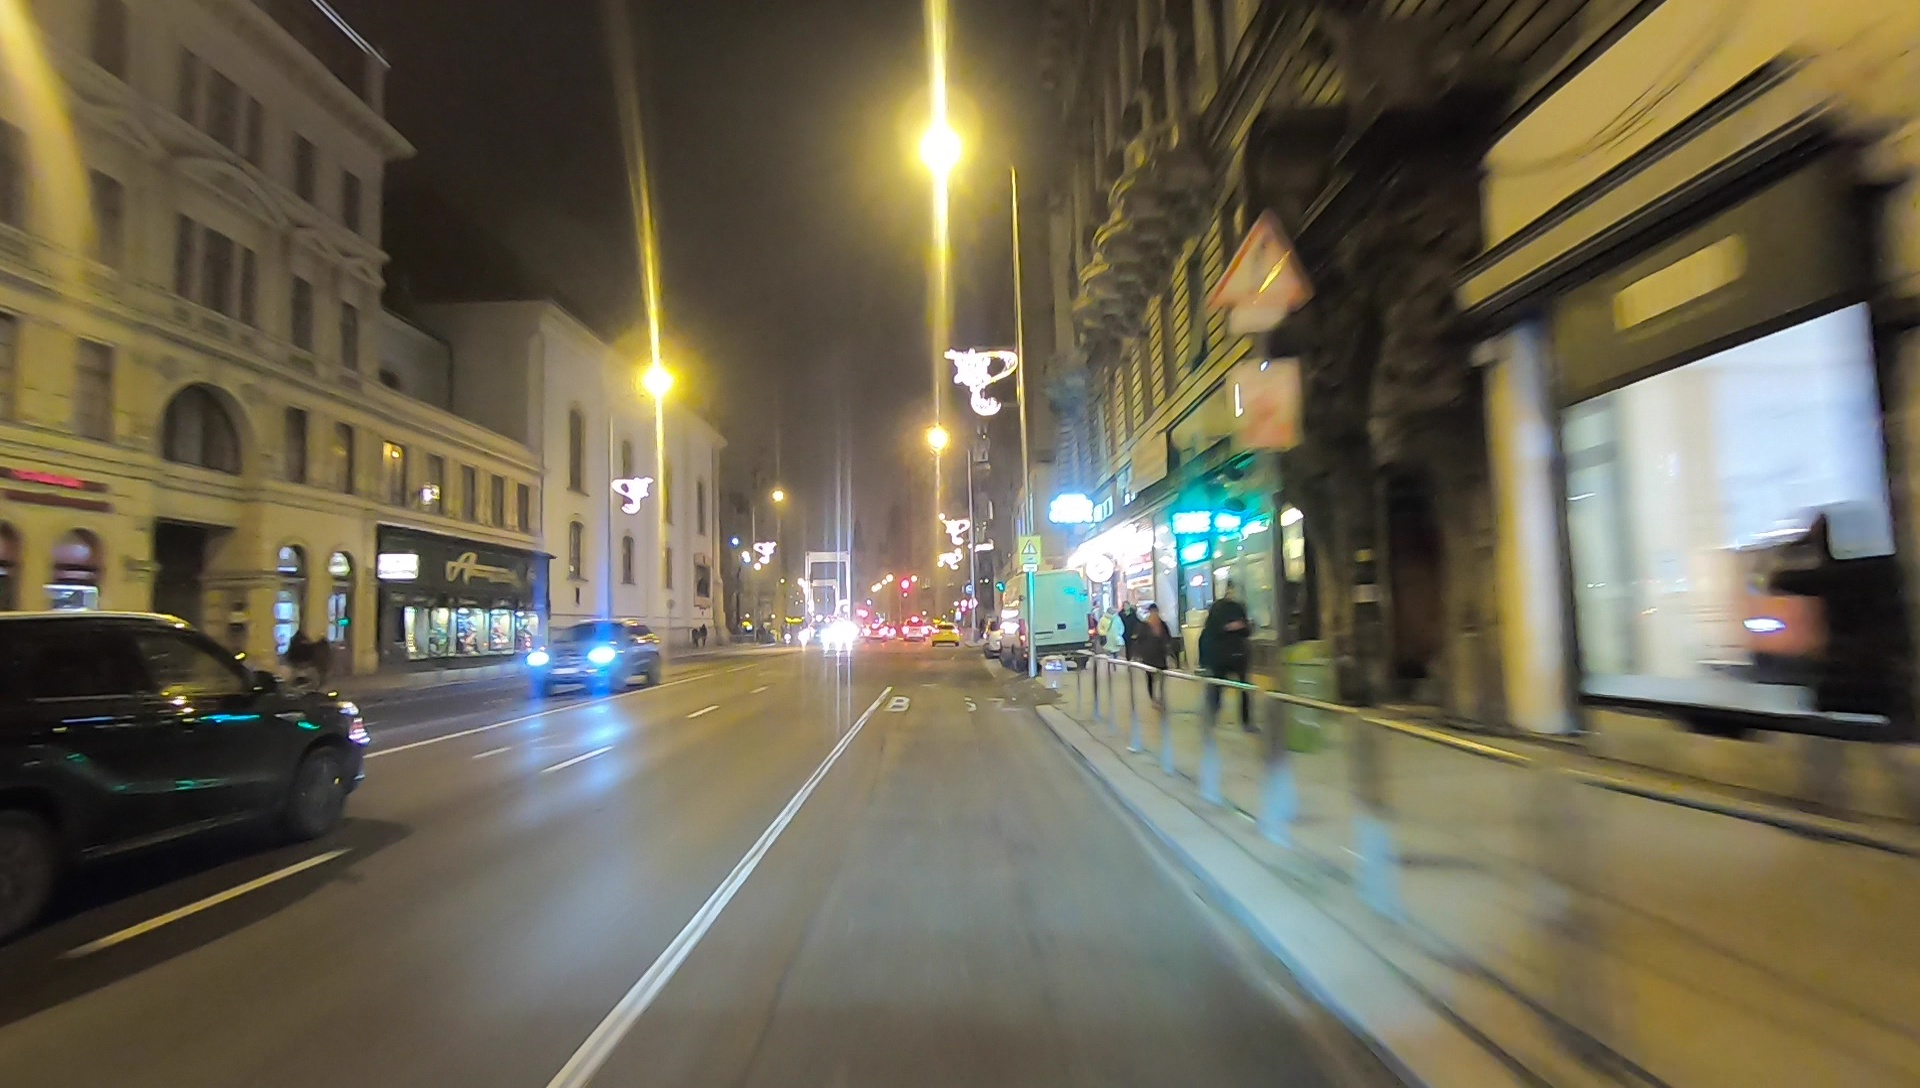person: (1760, 500, 1920, 847), (1201, 582, 1262, 739), (1134, 604, 1171, 708), (285, 630, 312, 694), (1099, 606, 1122, 668), (313, 634, 330, 687)
